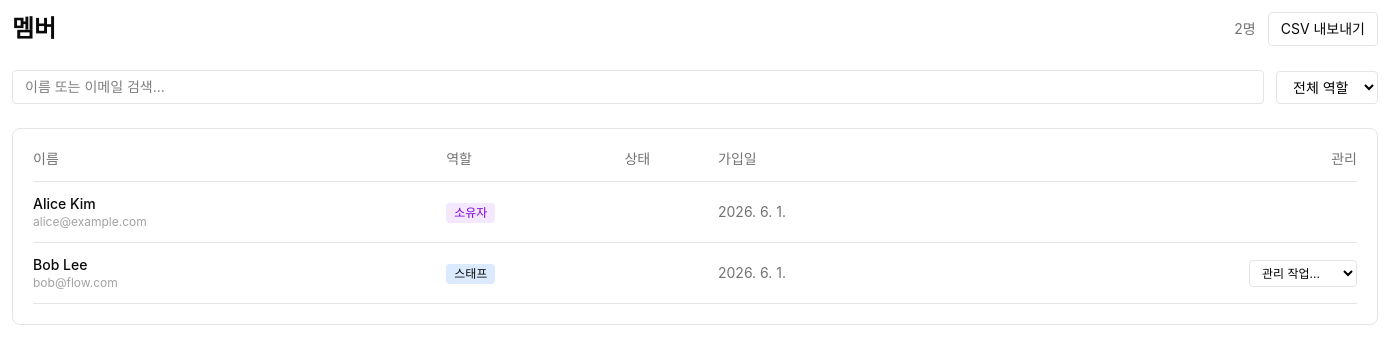
Test: MembersPage › 검색어 입력 시 행 필터링
The width and height of the screenshot is (1390, 342).
Check: the text "Alice Kim" is shown, box [33,195,96,212]
Type "bob" into the search field named "멤버 검색".
click(638, 87); type("bob")  # box [12,70,1264,104]
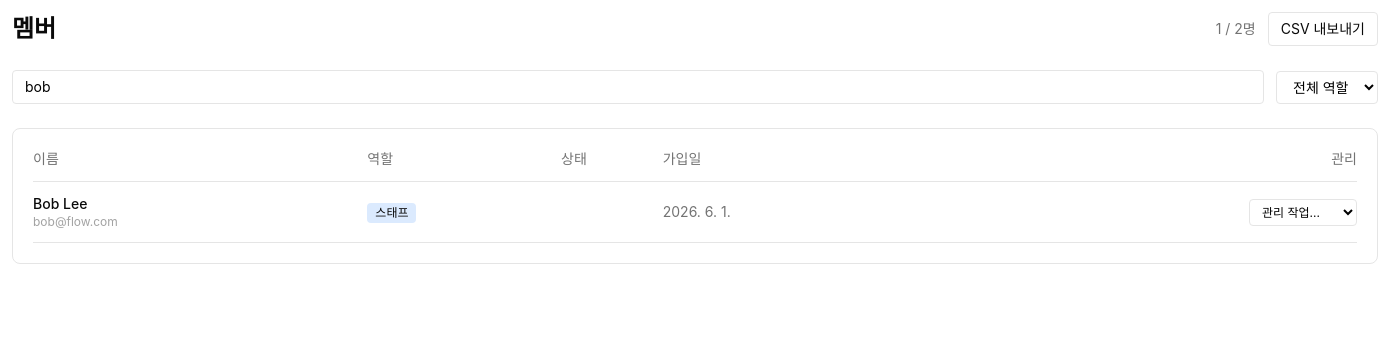
Check: the text "Bob Lee" is shown, box [33,195,87,212]
Check: the text "Alice Kim" is gone
